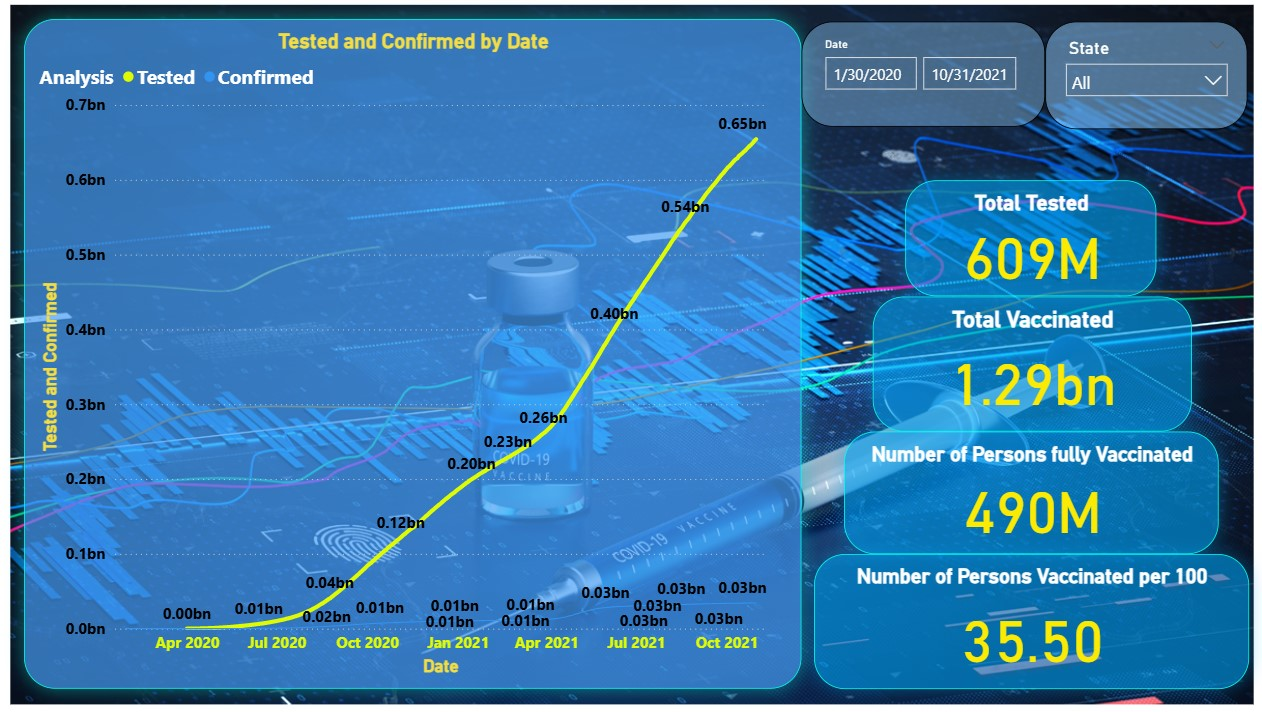

What the dashboard file says about the page in this screenshot:
{"tool":"powerbi","page":{"name":"Testing & Vaccination Data","canvas":[1280,720],"ordinal":1},"visuals":[{"type":"lineChart","fields":{"Category":["raw_data_Indian_states.Date"],"Y":["Sum(raw_data_Indian_states.Tested)","Sum(raw_data_Indian_states.Confirmed)"]},"box":[53.1,33.8,750.4,646.7],"z":0},{"type":"slicer","fields":{"Values":["raw_data_Indian_states.Date"]},"box":[803.5,36.2,235.3,101.3],"z":1000},{"type":"slicer","fields":{"Values":["raw_data_Indian_states.State"]},"box":[1038.7,36.2,195.4,103.8],"z":2000},{"type":"card","title":"Total Vaccinated","fields":{"Values":["Sum(vaccination-data.TOTAL_VACCINATIONS)"]},"box":[872.3,301.6,307.6,130.3],"z":3000},{"type":"card","title":"Number of Persons Vaccinated per 100","fields":{"Values":["Sum(vaccination-data.PERSONS_FULLY_VACCINATED_PER100)"]},"box":[815.6,550.1,419.8,130.3],"z":4000},{"type":"card","title":"Number of Persons fully Vaccinated","fields":{"Values":["Sum(vaccination-data.PERSONS_FULLY_VACCINATED)"]},"box":[844.5,431.9,361.9,118.2],"z":5000},{"type":"card","title":"Total Tested","fields":{"Values":["Max(raw_data_Indian_states.Tested)"]},"box":[903.6,189.4,242.5,112.2],"z":6000}]}

Visuals, with their boxes in screenshot pixels (x1, y1, x2, y2), scaled from the page's 1280x720 canvas onto the 1262x712 screenshot:
lineChart - raw_data_Indian_states.Date x Sum(raw_data_Indian_states.Tested): (52, 33, 792, 673)
slicer - raw_data_Indian_states.Date: (792, 36, 1024, 136)
slicer - raw_data_Indian_states.State: (1024, 36, 1217, 138)
"Total Vaccinated" card: (860, 298, 1163, 427)
"Number of Persons Vaccinated per 100" card: (804, 544, 1218, 673)
"Number of Persons fully Vaccinated" card: (833, 427, 1189, 544)
"Total Tested" card: (891, 187, 1130, 298)
